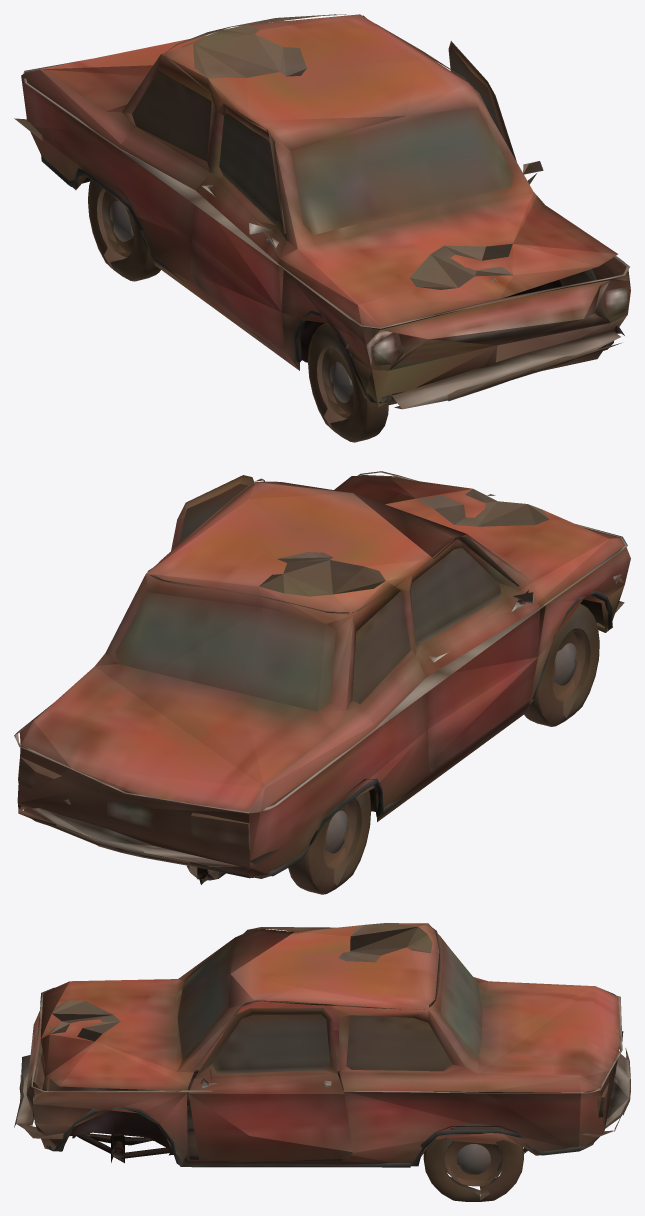
Rendered from 加油废车.glb.
3 renders of one model, top to bottom at view 1: azimuth 30°, elevation 25°; view 2: azimuth 150°, elevation 25°; view 3: azimuth 270°, elevation 25°, orthographic. The views are drawn at different scales.
Parts seen in each view (by area): view 1: feiche_b; view 2: feiche_b; view 3: feiche_b.
Part boxes in pixels (x1,y1,x2,y2): feiche_b: (14,14,630,442); feiche_b: (14,471,630,894); feiche_b: (14,923,630,1201).
Bounding box in the file's own units: 2.66 × 2.15 × 6.
Materials: 1 (1 with a texture image).
